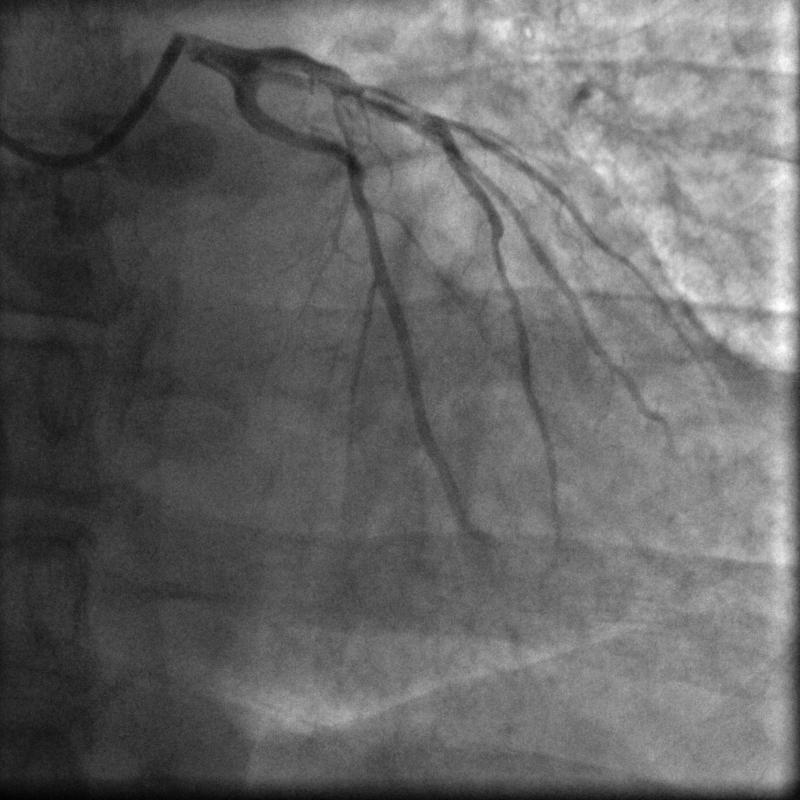Stenosis: (344, 76, 433, 122)
